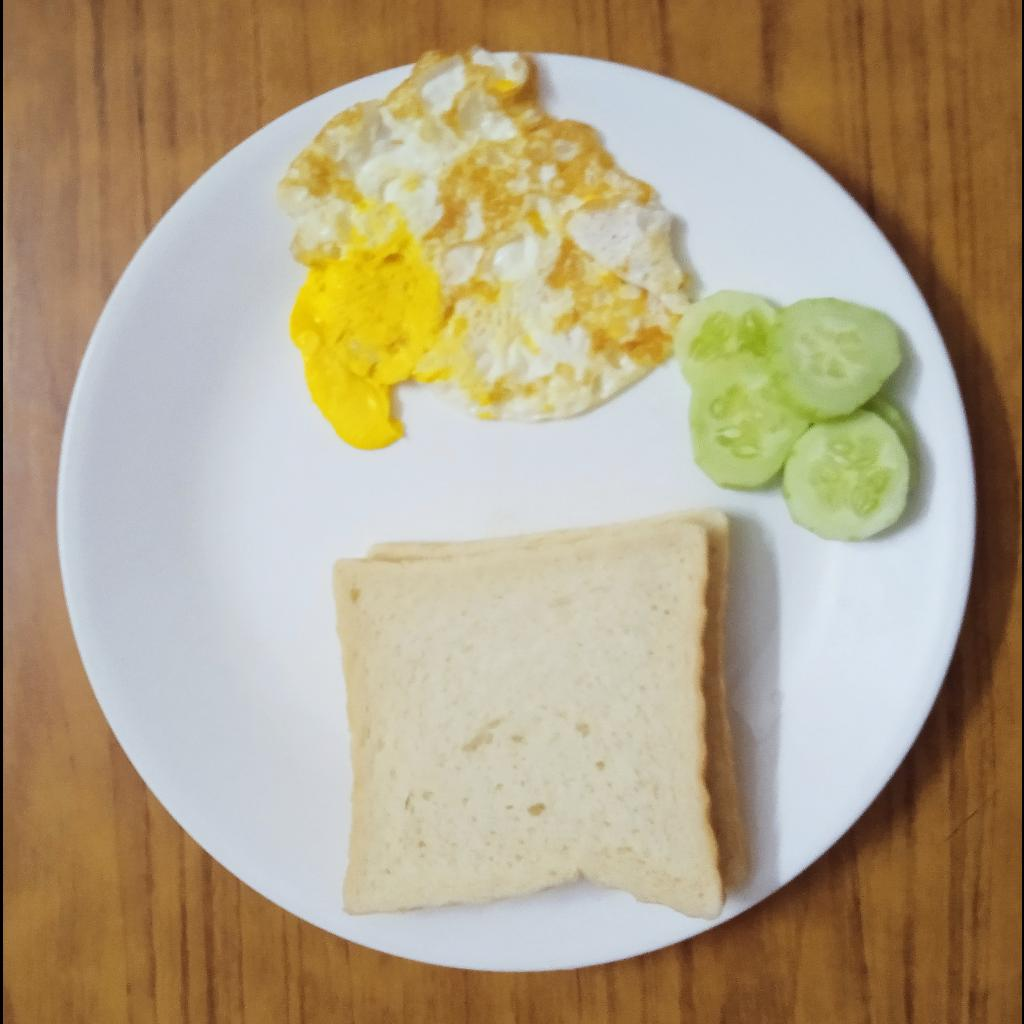bread: (330, 500, 751, 915)
cucumber: (675, 288, 917, 542)
egg: (274, 38, 693, 451)
